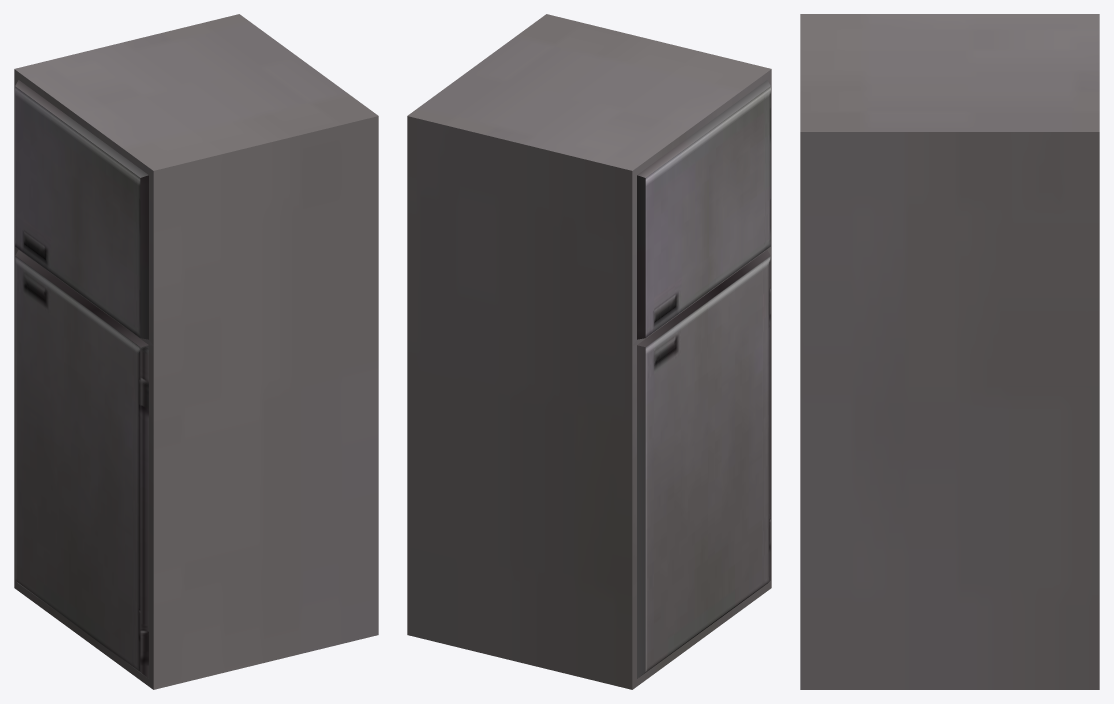
File: FRIDGE.fbx
The picture shows the model from 3 angles, left to right: view 1: azimuth 30°, elevation 25°; view 2: azimuth 150°, elevation 25°; view 3: azimuth 270°, elevation 25°; orthographic projection. The views are drawn at different scales.
Visible parts, largest first — view 1: FRIDGE; view 2: FRIDGE; view 3: FRIDGE.
Boxes of the visible parts, x1=… form: FRIDGE: x1=14, y1=14, x2=378, y2=689; FRIDGE: x1=407, y1=14, x2=771, y2=689; FRIDGE: x1=800, y1=14, x2=1099, y2=689.
Size of the model in its own units: 84.78 by 182 by 88.43.
